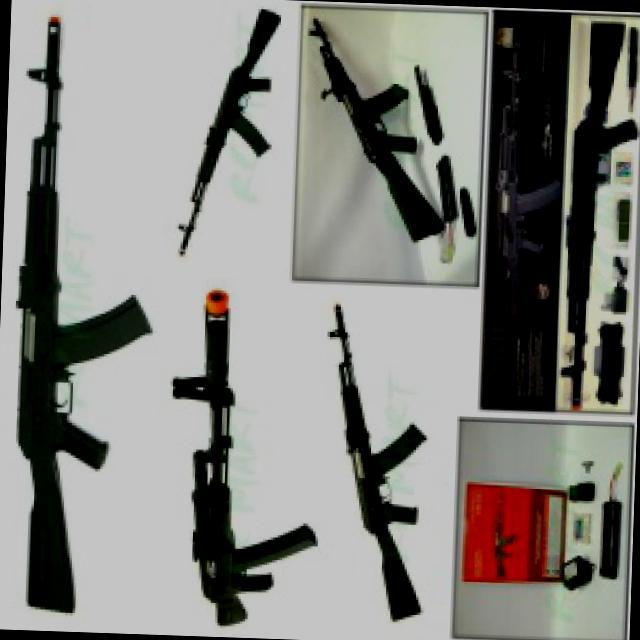long weapon: (287, 306, 445, 639), (169, 0, 287, 274)
